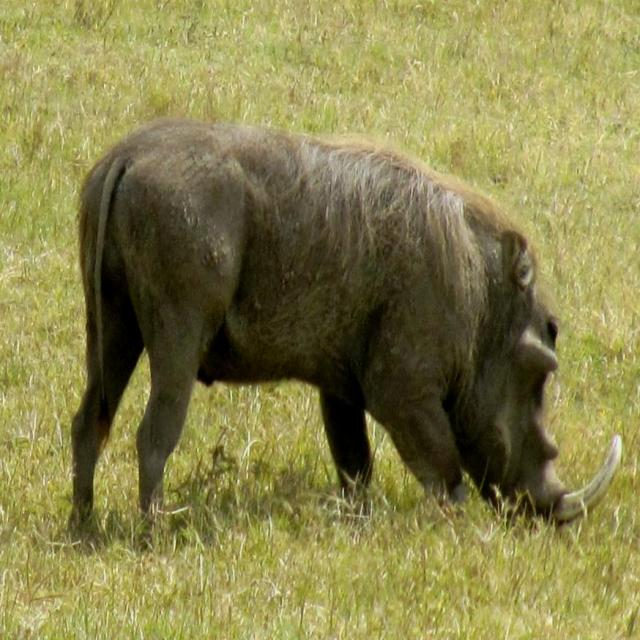pig: (71, 120, 620, 523)
